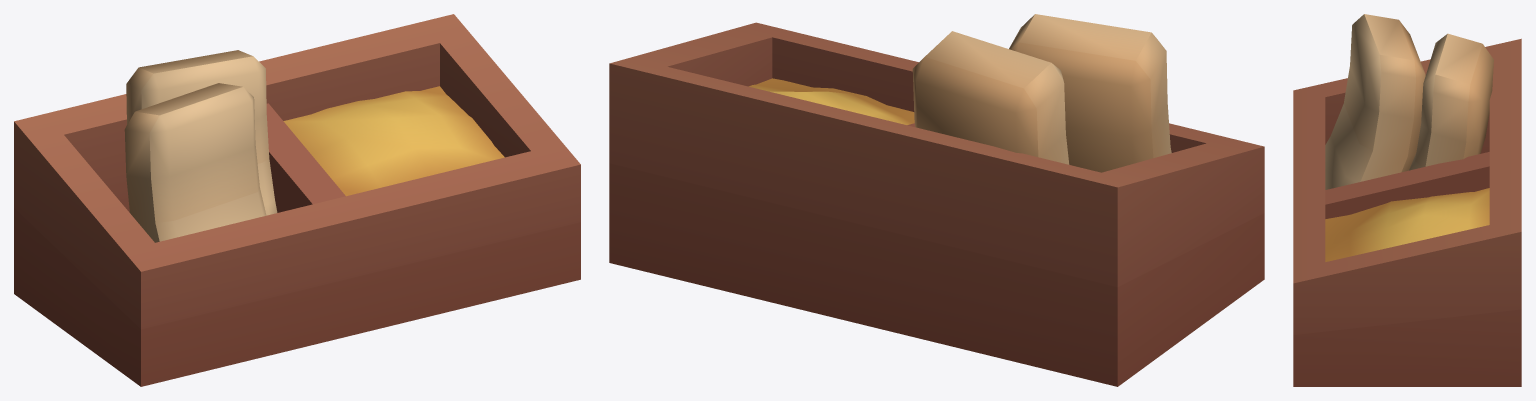
File: crate_long_C.glb
3 views of the same model, side by side, from view 1: azimuth 30°, elevation 25°; view 2: azimuth 150°, elevation 25°; view 3: azimuth 270°, elevation 25° (orthographic). The views are drawn at different scales.
Visible parts, largest first — view 1: crate_long_C; view 2: crate_long_C; view 3: crate_long_C.
Boxes of the visible parts, <box> form: crate_long_C: <box>14,14,580,386</box>; crate_long_C: <box>609,14,1264,386</box>; crate_long_C: <box>1293,14,1521,386</box>.
Size of the model in its own units: 0.4 by 0.1986 by 0.2.
1 material, 1 textured.
